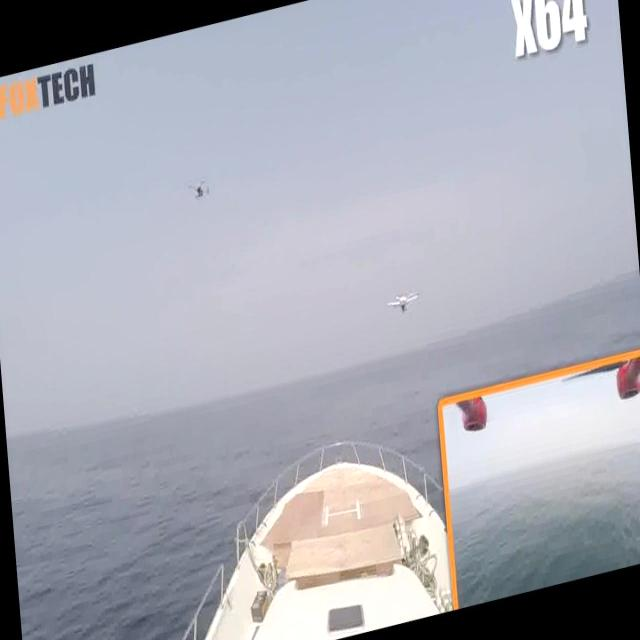drone: (180, 168, 216, 212), (384, 286, 425, 324)
